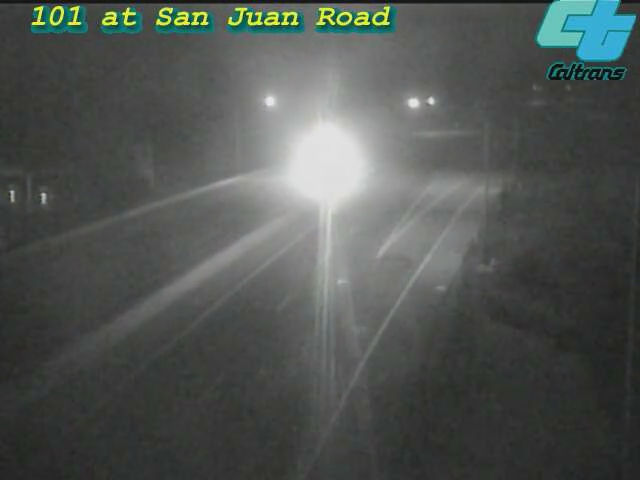vehicle: (292, 134, 342, 184)
